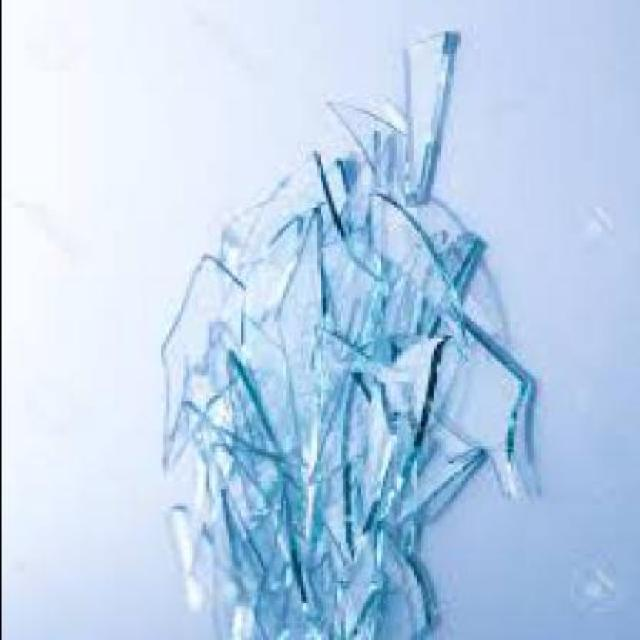GLASS: (154, 256, 248, 475), (356, 205, 458, 369), (199, 159, 341, 276), (429, 330, 518, 507), (251, 540, 378, 637), (373, 345, 441, 509), (404, 199, 481, 341), (332, 530, 432, 638), (386, 424, 476, 538), (268, 216, 322, 404), (396, 35, 450, 210), (322, 108, 418, 204), (219, 356, 273, 516), (236, 325, 296, 452), (304, 388, 347, 563), (201, 503, 254, 637), (347, 386, 390, 546), (319, 236, 384, 341), (341, 117, 387, 231), (298, 390, 352, 484), (162, 447, 210, 551), (316, 330, 362, 427), (159, 503, 196, 620), (276, 432, 304, 566), (316, 153, 350, 244), (268, 507, 292, 608), (387, 514, 415, 558)
